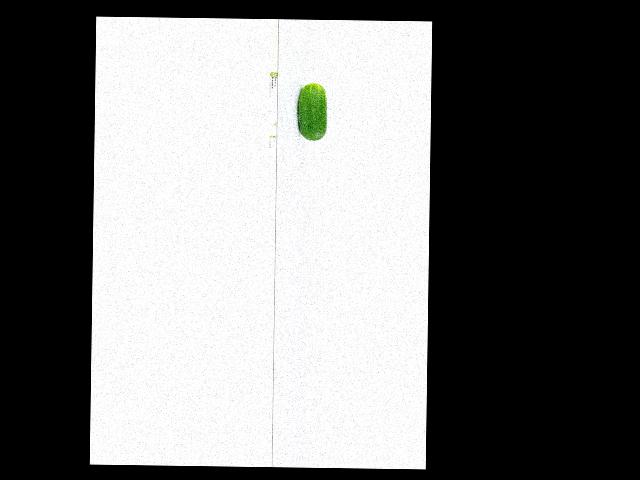cucumber: (297, 83, 326, 141)
